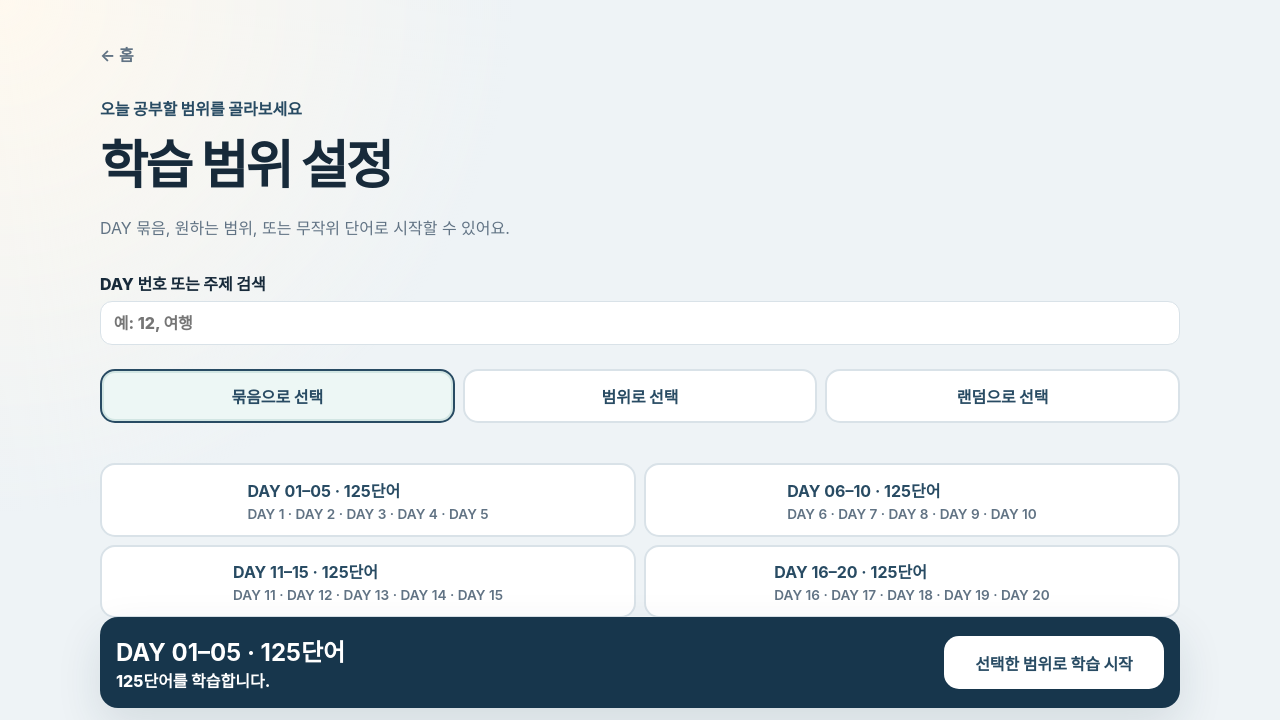
it: disables start for an empty selection and lets random selection be regenerated
The image size is (1280, 720).
Click the tab "범위로 선택" at (640,396), box [463,369,817,423]
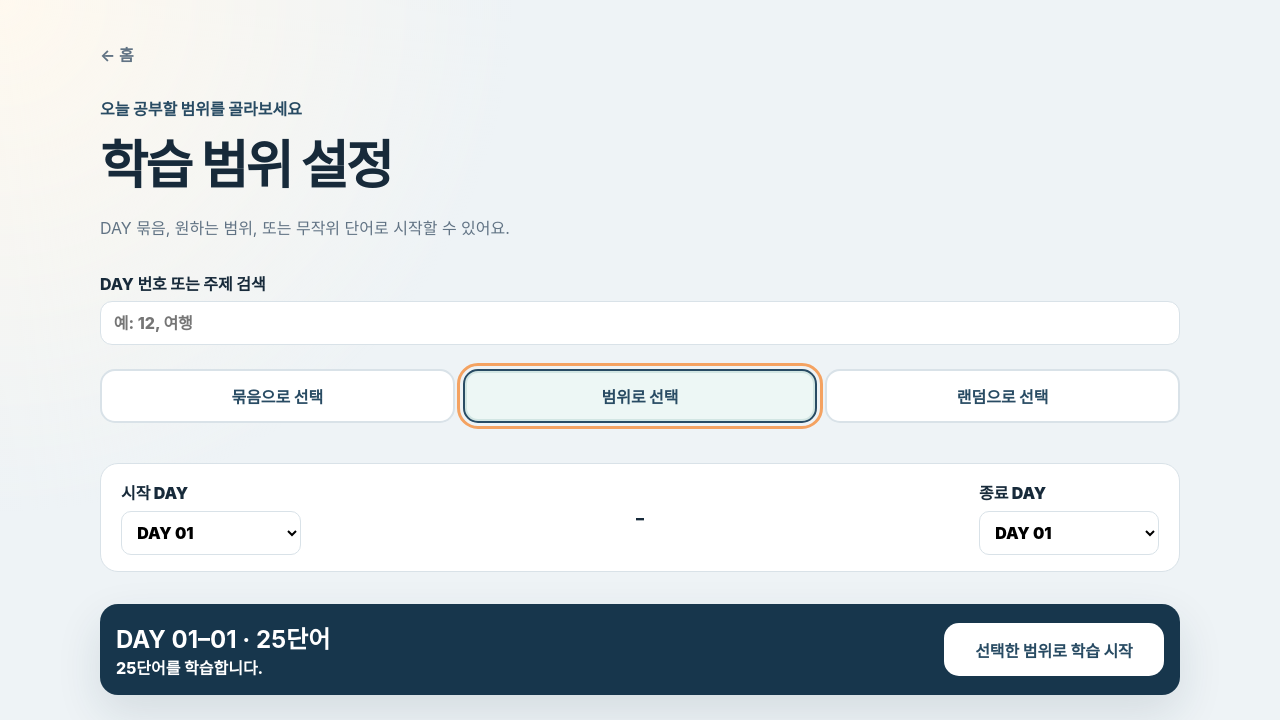
Select "선택" in the dropdown labelled "시작 DAY" at (211,533), box [121,511,301,555]
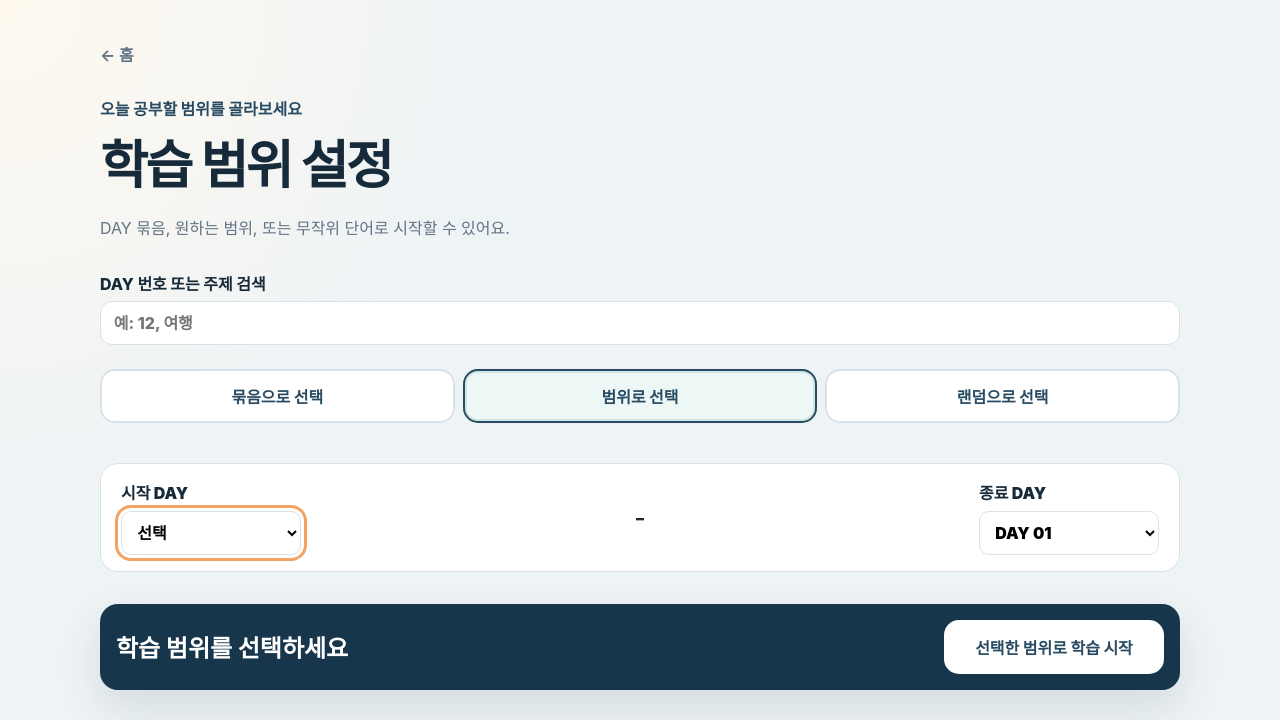
Result: the button "선택한 범위로 학습 시작" is disabled at [944,620,1164,674]
Select "DAY 01" in the dropdown labelled "시작 DAY" at (211,533), box [121,511,301,555]
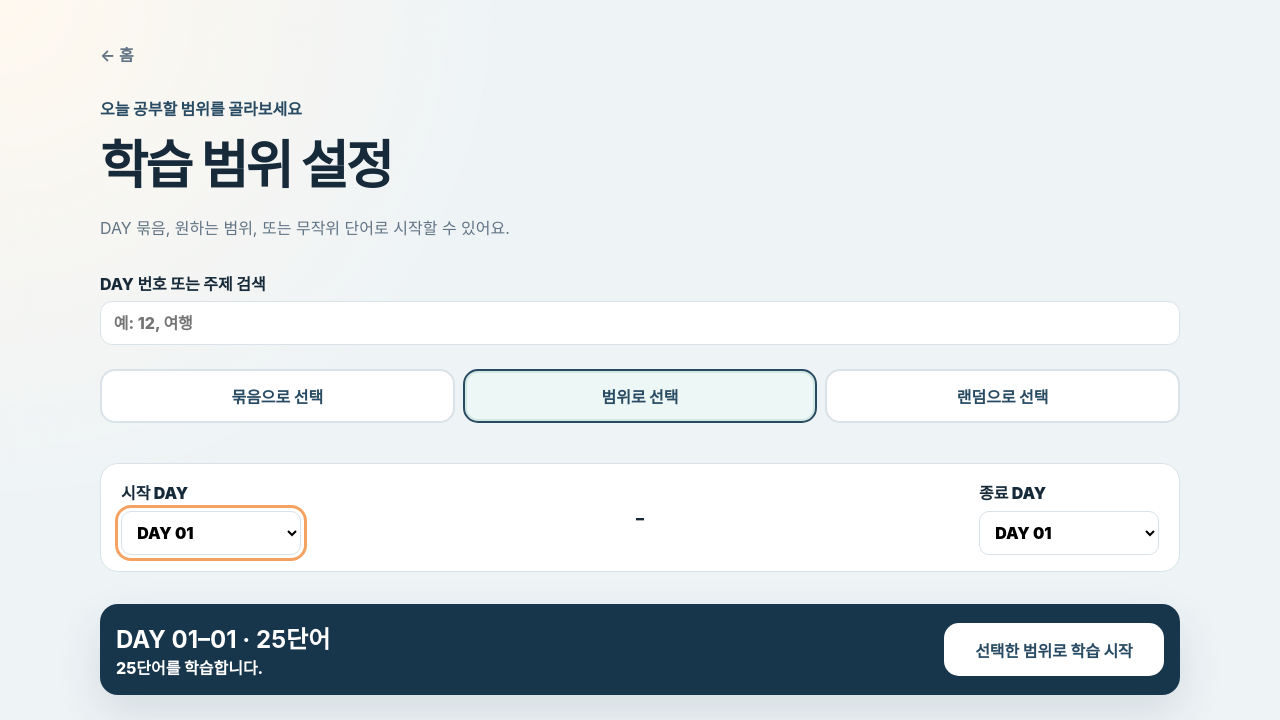
Select "DAY 01" in the dropdown labelled "종료 DAY" at (1069,533), box [979,511,1159,555]
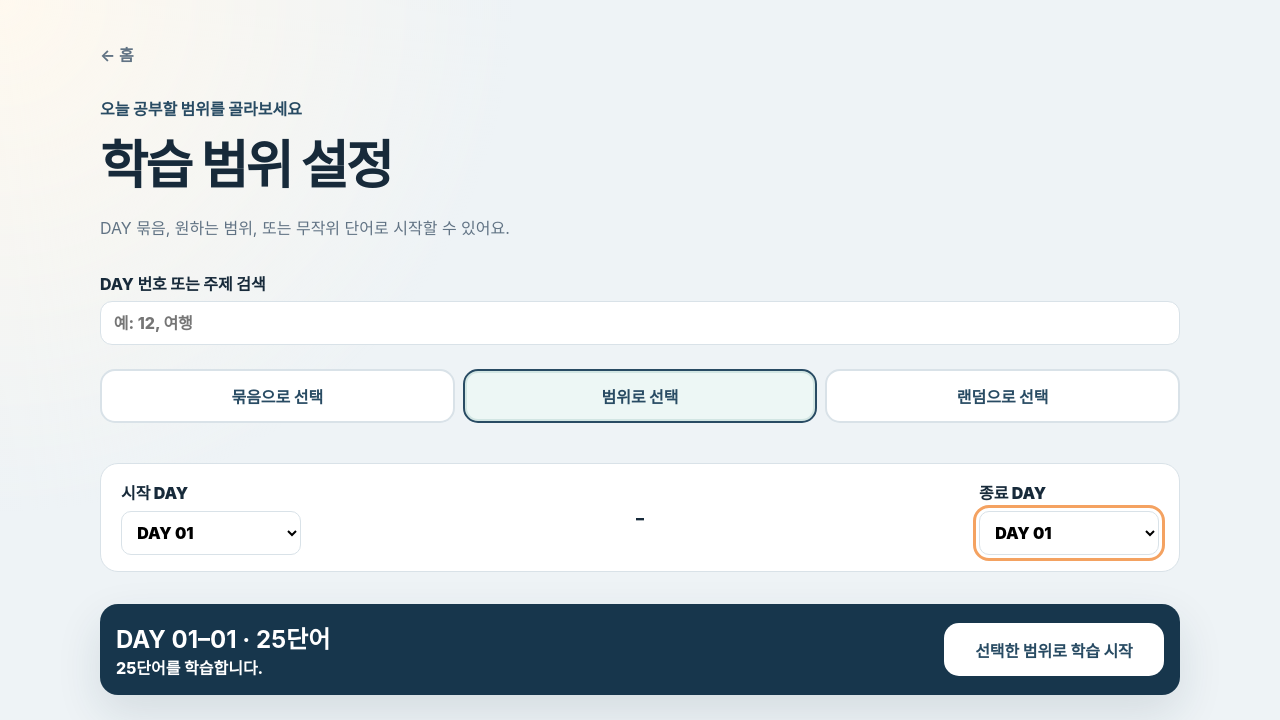
Result: the button "선택한 범위로 학습 시작" is enabled at [944,623,1164,676]
Click the tab "랜덤으로 선택" at (1003,396), box [825,369,1180,423]
(page scrolled)
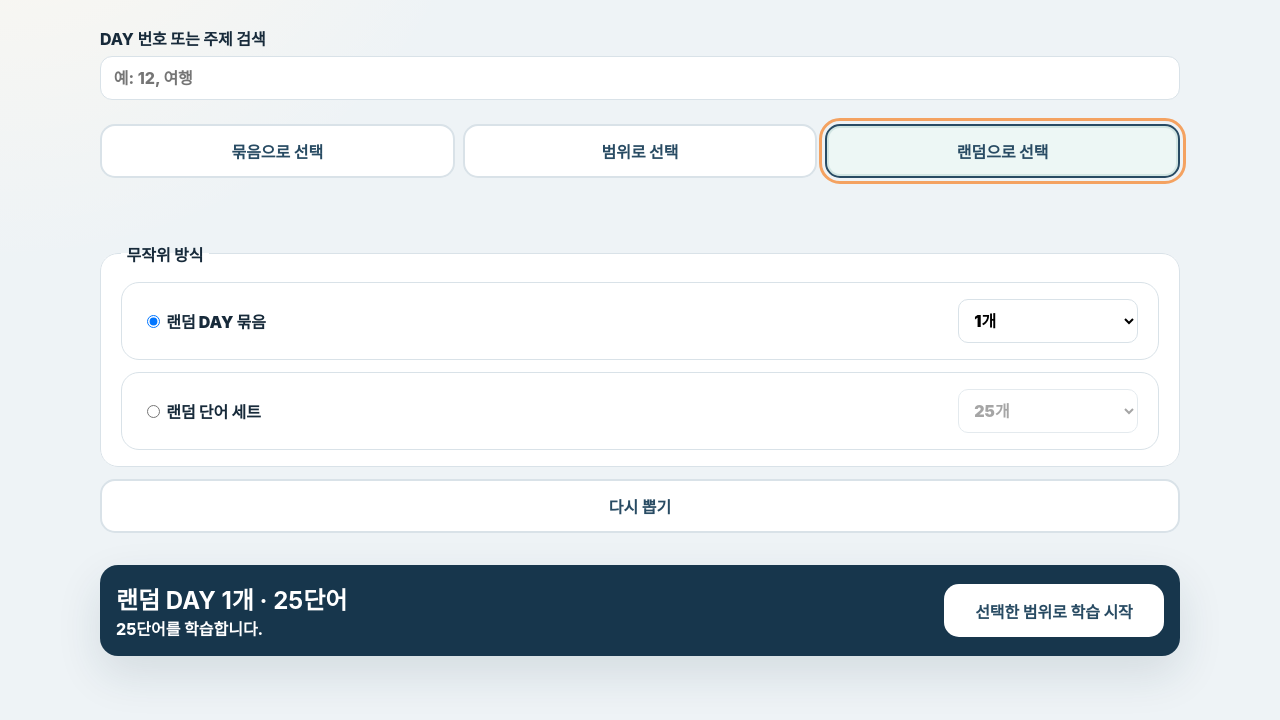
Result: the button "다시 뽑기" is shown at [100,479,1180,533]
